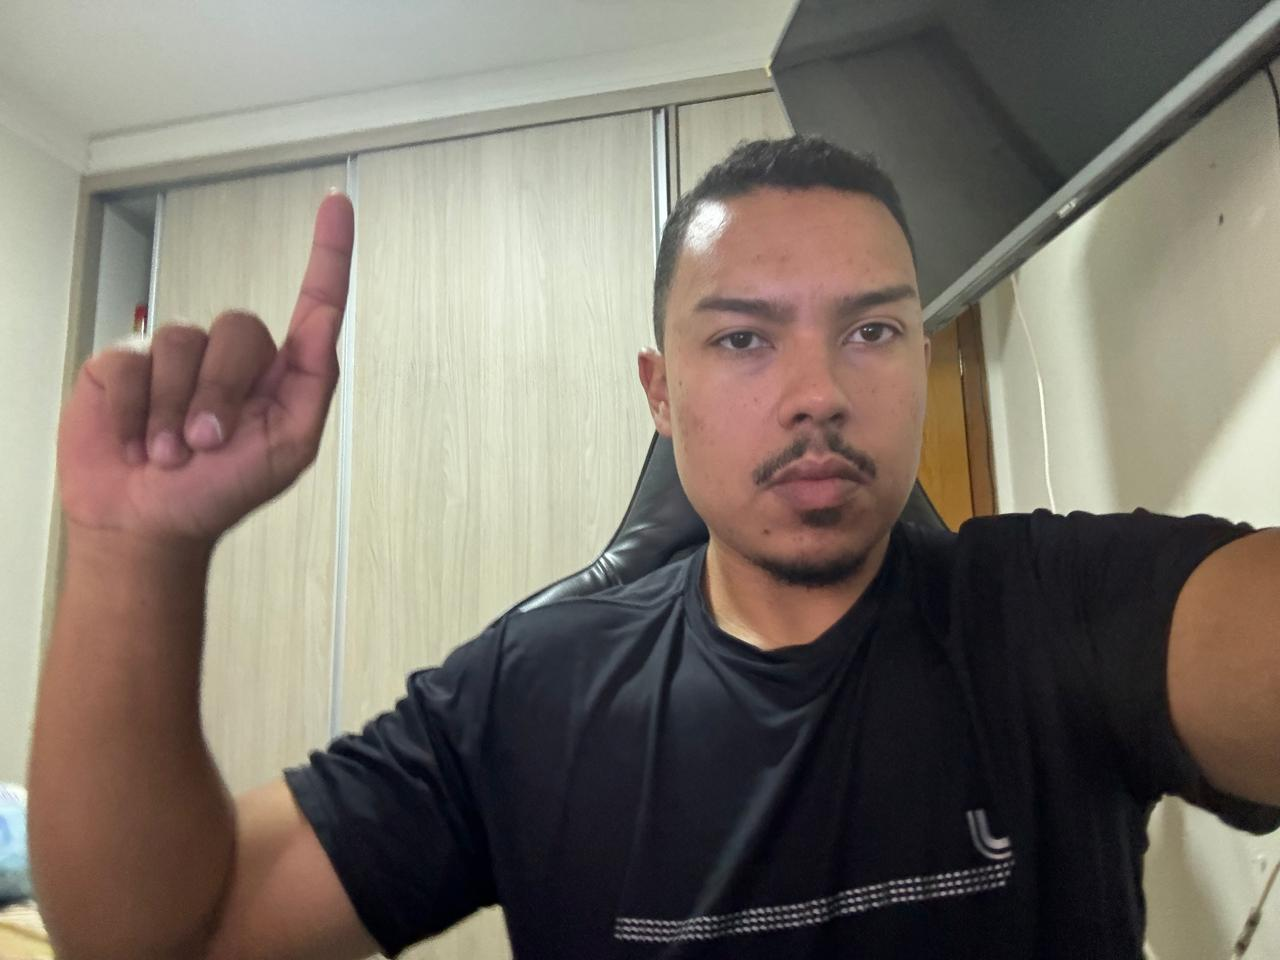g: (51, 185, 383, 552)
